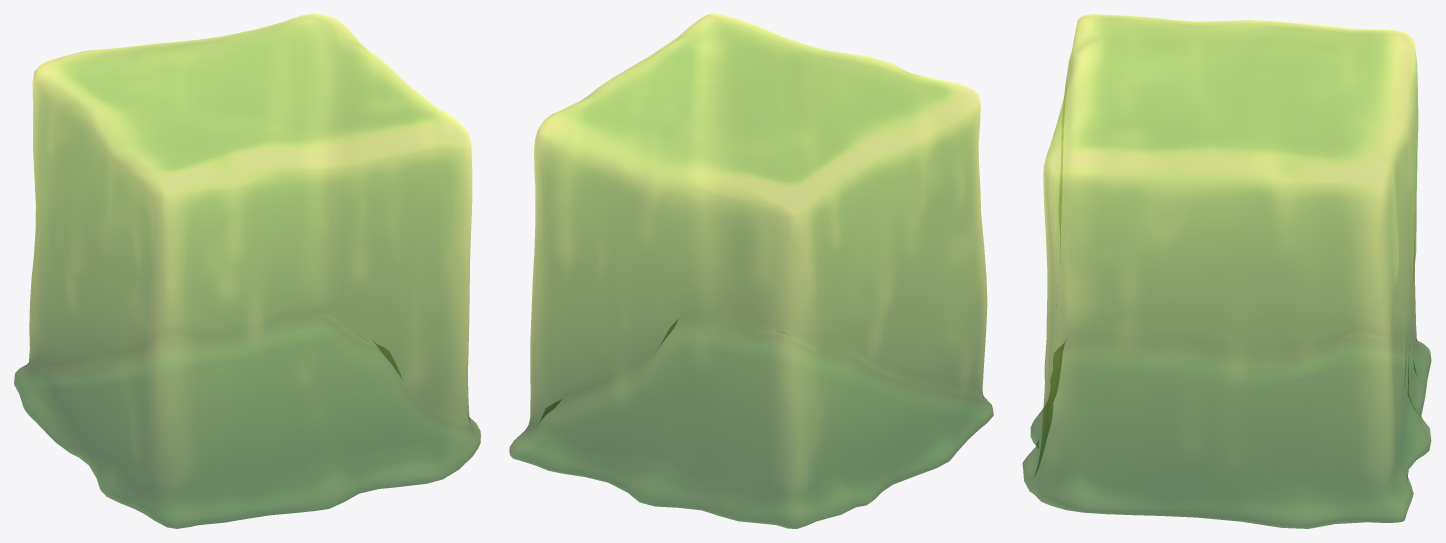
3 renders of one model, left to right at view 1: azimuth 30°, elevation 25°; view 2: azimuth 150°, elevation 25°; view 3: azimuth 270°, elevation 25°, orthographic. The views are drawn at different scales.
Parts seen in each view (by area): view 1: cube; view 2: cube; view 3: cube.
Boxes of the visible parts, box(x1,y1,x2,y2) form: cube: box(14, 14, 480, 528); cube: box(509, 14, 993, 528); cube: box(1022, 14, 1431, 528).
Size of the model in its own units: 5.17 by 5.08 by 5.1.
1 material, 1 textured.
